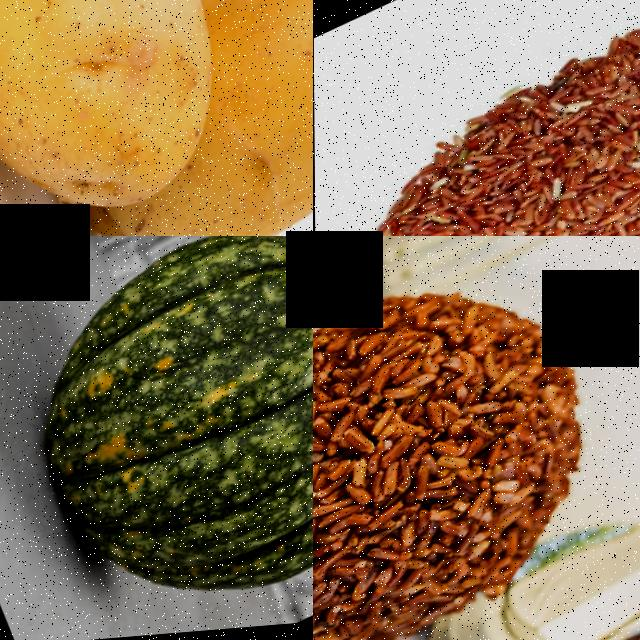potato: (0, 0, 268, 236), (187, 0, 313, 236)
pumpkin: (0, 236, 313, 640)
red rice: (313, 236, 637, 640), (315, 0, 640, 236)
